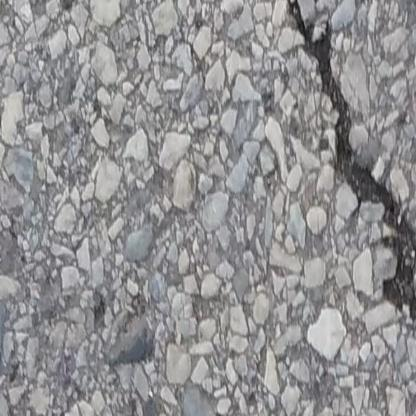Cracks: (294, 0, 416, 335)
